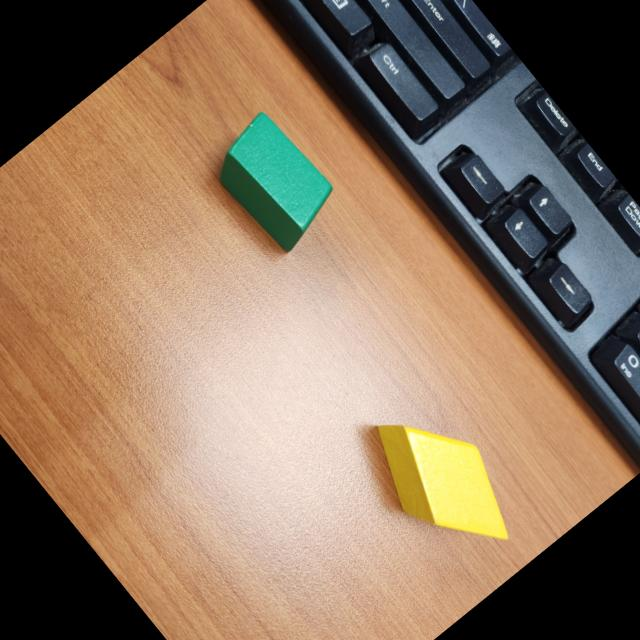green: (198, 102, 350, 262)
yellow: (351, 388, 536, 582)
